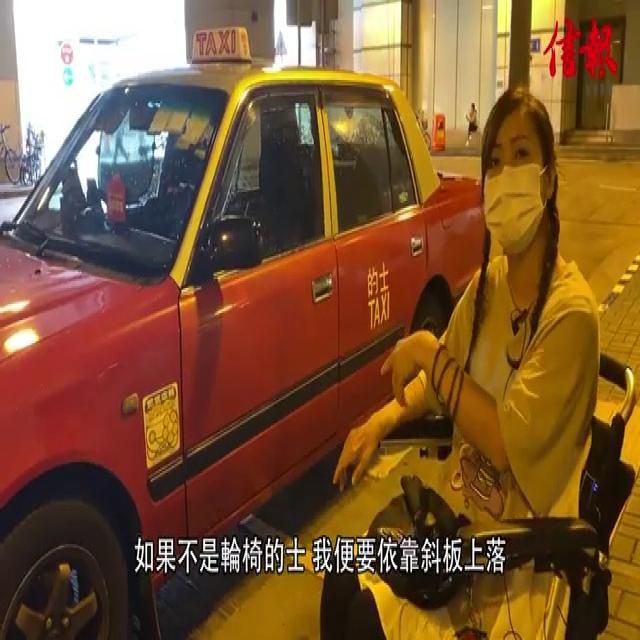wheelchairs: (372, 307, 640, 640)
